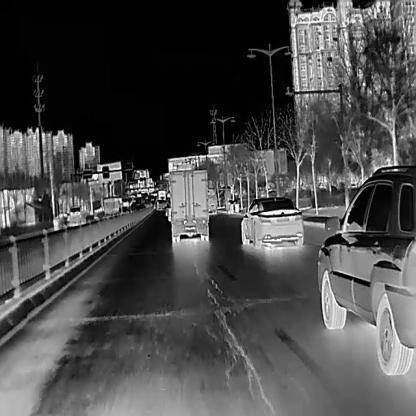car: (316, 164, 415, 377), (239, 195, 304, 247), (167, 167, 211, 243), (101, 195, 123, 218), (66, 205, 87, 226), (154, 198, 169, 210), (157, 188, 167, 205)
